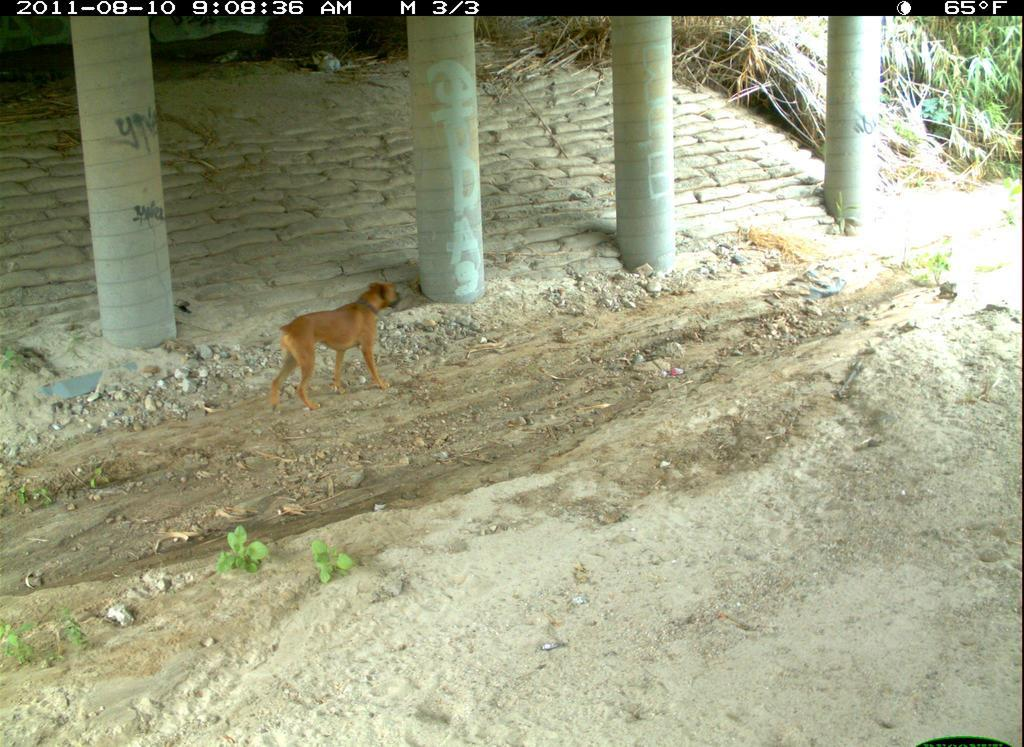dog: (515, 551, 820, 747)
